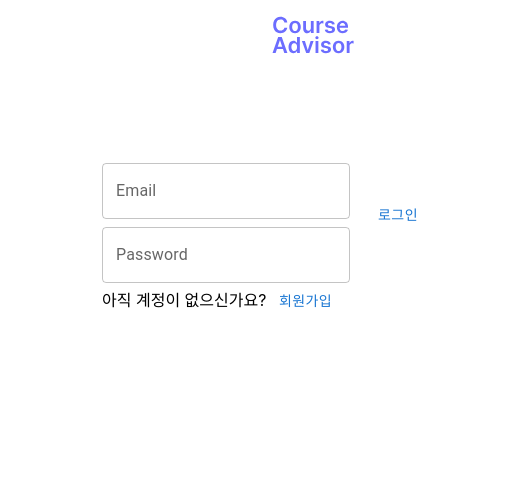
Test: <LoginPage /> › should switch login tab and signup tab
The image size is (523, 500).
Click the button "회원가입": click(305, 301) [271, 283, 340, 320]
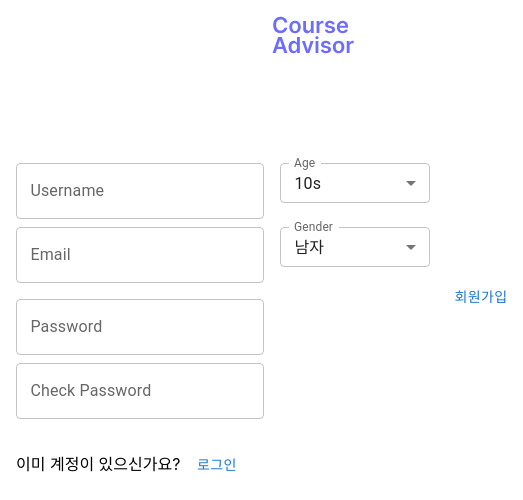
Now the text "이미 계정이 있으신가요?" is shown, box [16, 454, 185, 474]
Click the button "로그인": click(217, 465) [185, 447, 249, 484]
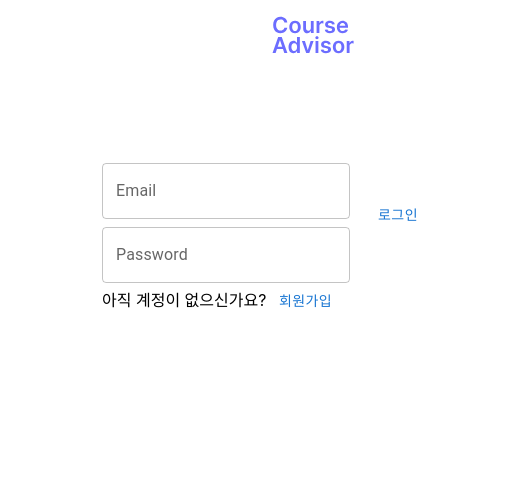
Now the text "아직 계정이 없으신가요?" is shown, box [102, 290, 271, 310]
